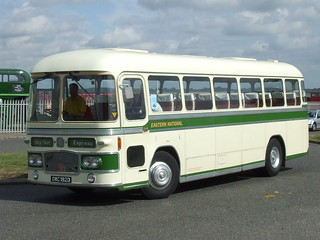bus: (24, 49, 309, 199)
